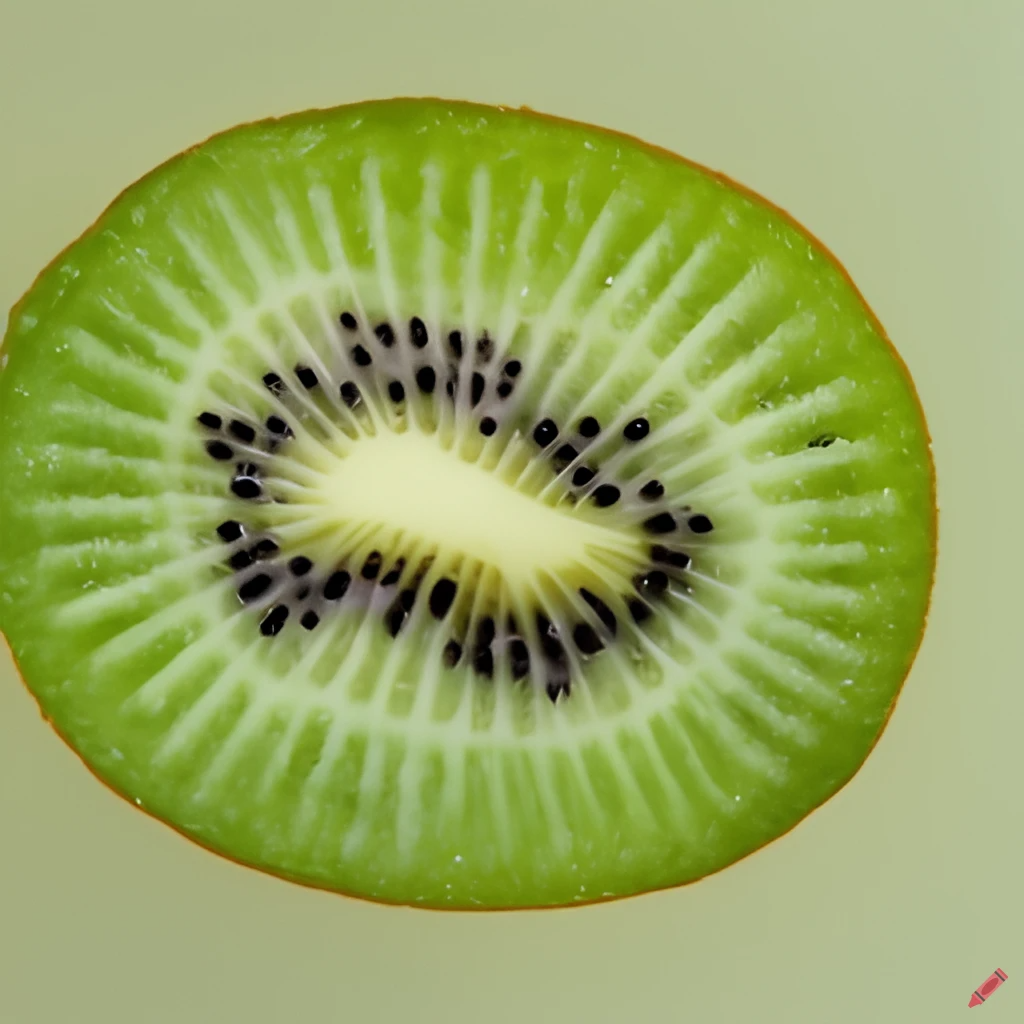Kiwi: (0, 43, 960, 942)
